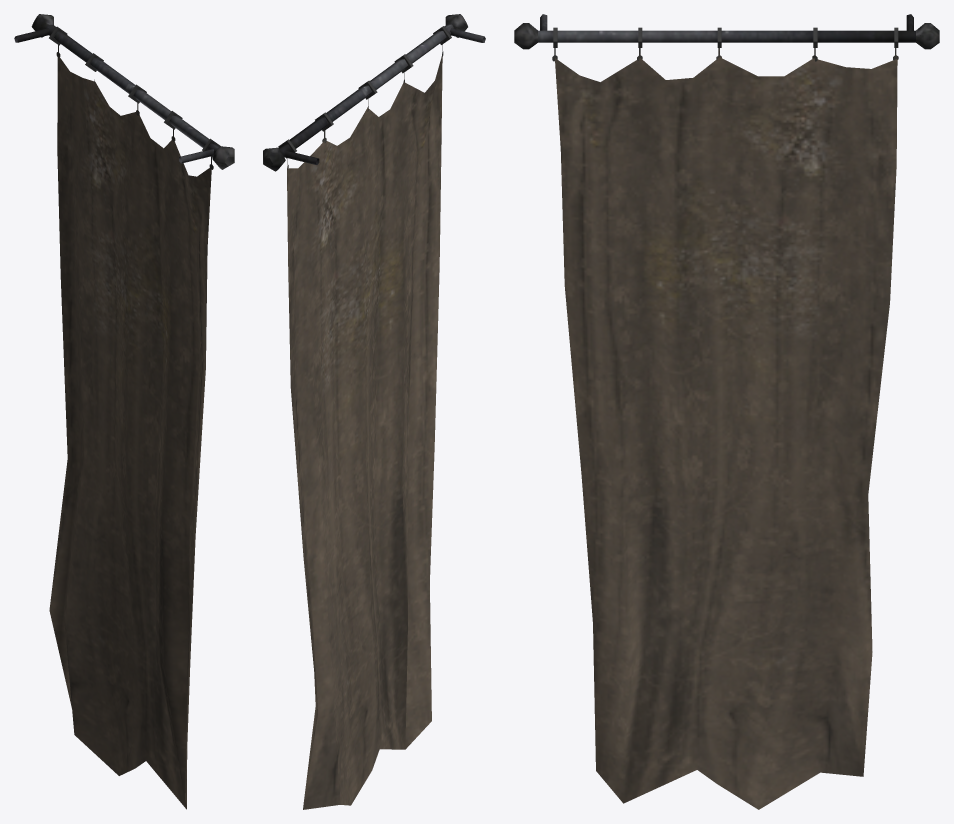
File: Single_LongCurtainSet.FBX
3 views of the same model, side by side, from view 1: azimuth 30°, elevation 25°; view 2: azimuth 150°, elevation 25°; view 3: azimuth 270°, elevation 25° (orthographic). The views are drawn at different scales.
Parts seen in each view (by area): view 1: Single_LongCurtainSet; view 2: Single_LongCurtainSet; view 3: Single_LongCurtainSet.
Part boxes in pixels (x1,y1,x2,y2): Single_LongCurtainSet: (14,14,234,809); Single_LongCurtainSet: (263,14,485,809); Single_LongCurtainSet: (514,14,939,809).
Size of the model in its own units: 16.9 by 251 by 123.
